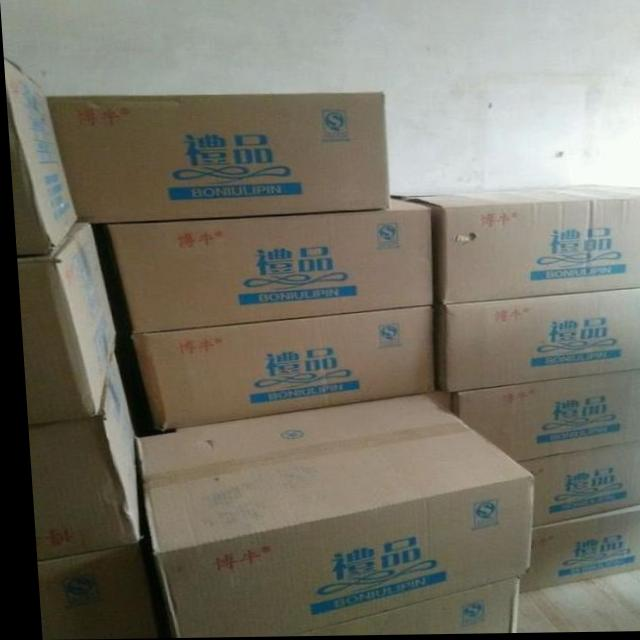box: (129, 395, 527, 637), (86, 195, 429, 333), (48, 93, 387, 223), (108, 305, 431, 437), (386, 184, 640, 306), (23, 351, 134, 562), (429, 287, 640, 393), (14, 223, 112, 427), (446, 370, 640, 464), (4, 60, 78, 260), (286, 575, 511, 636), (30, 542, 152, 639), (510, 505, 640, 594), (510, 442, 640, 528), (419, 391, 447, 416)
